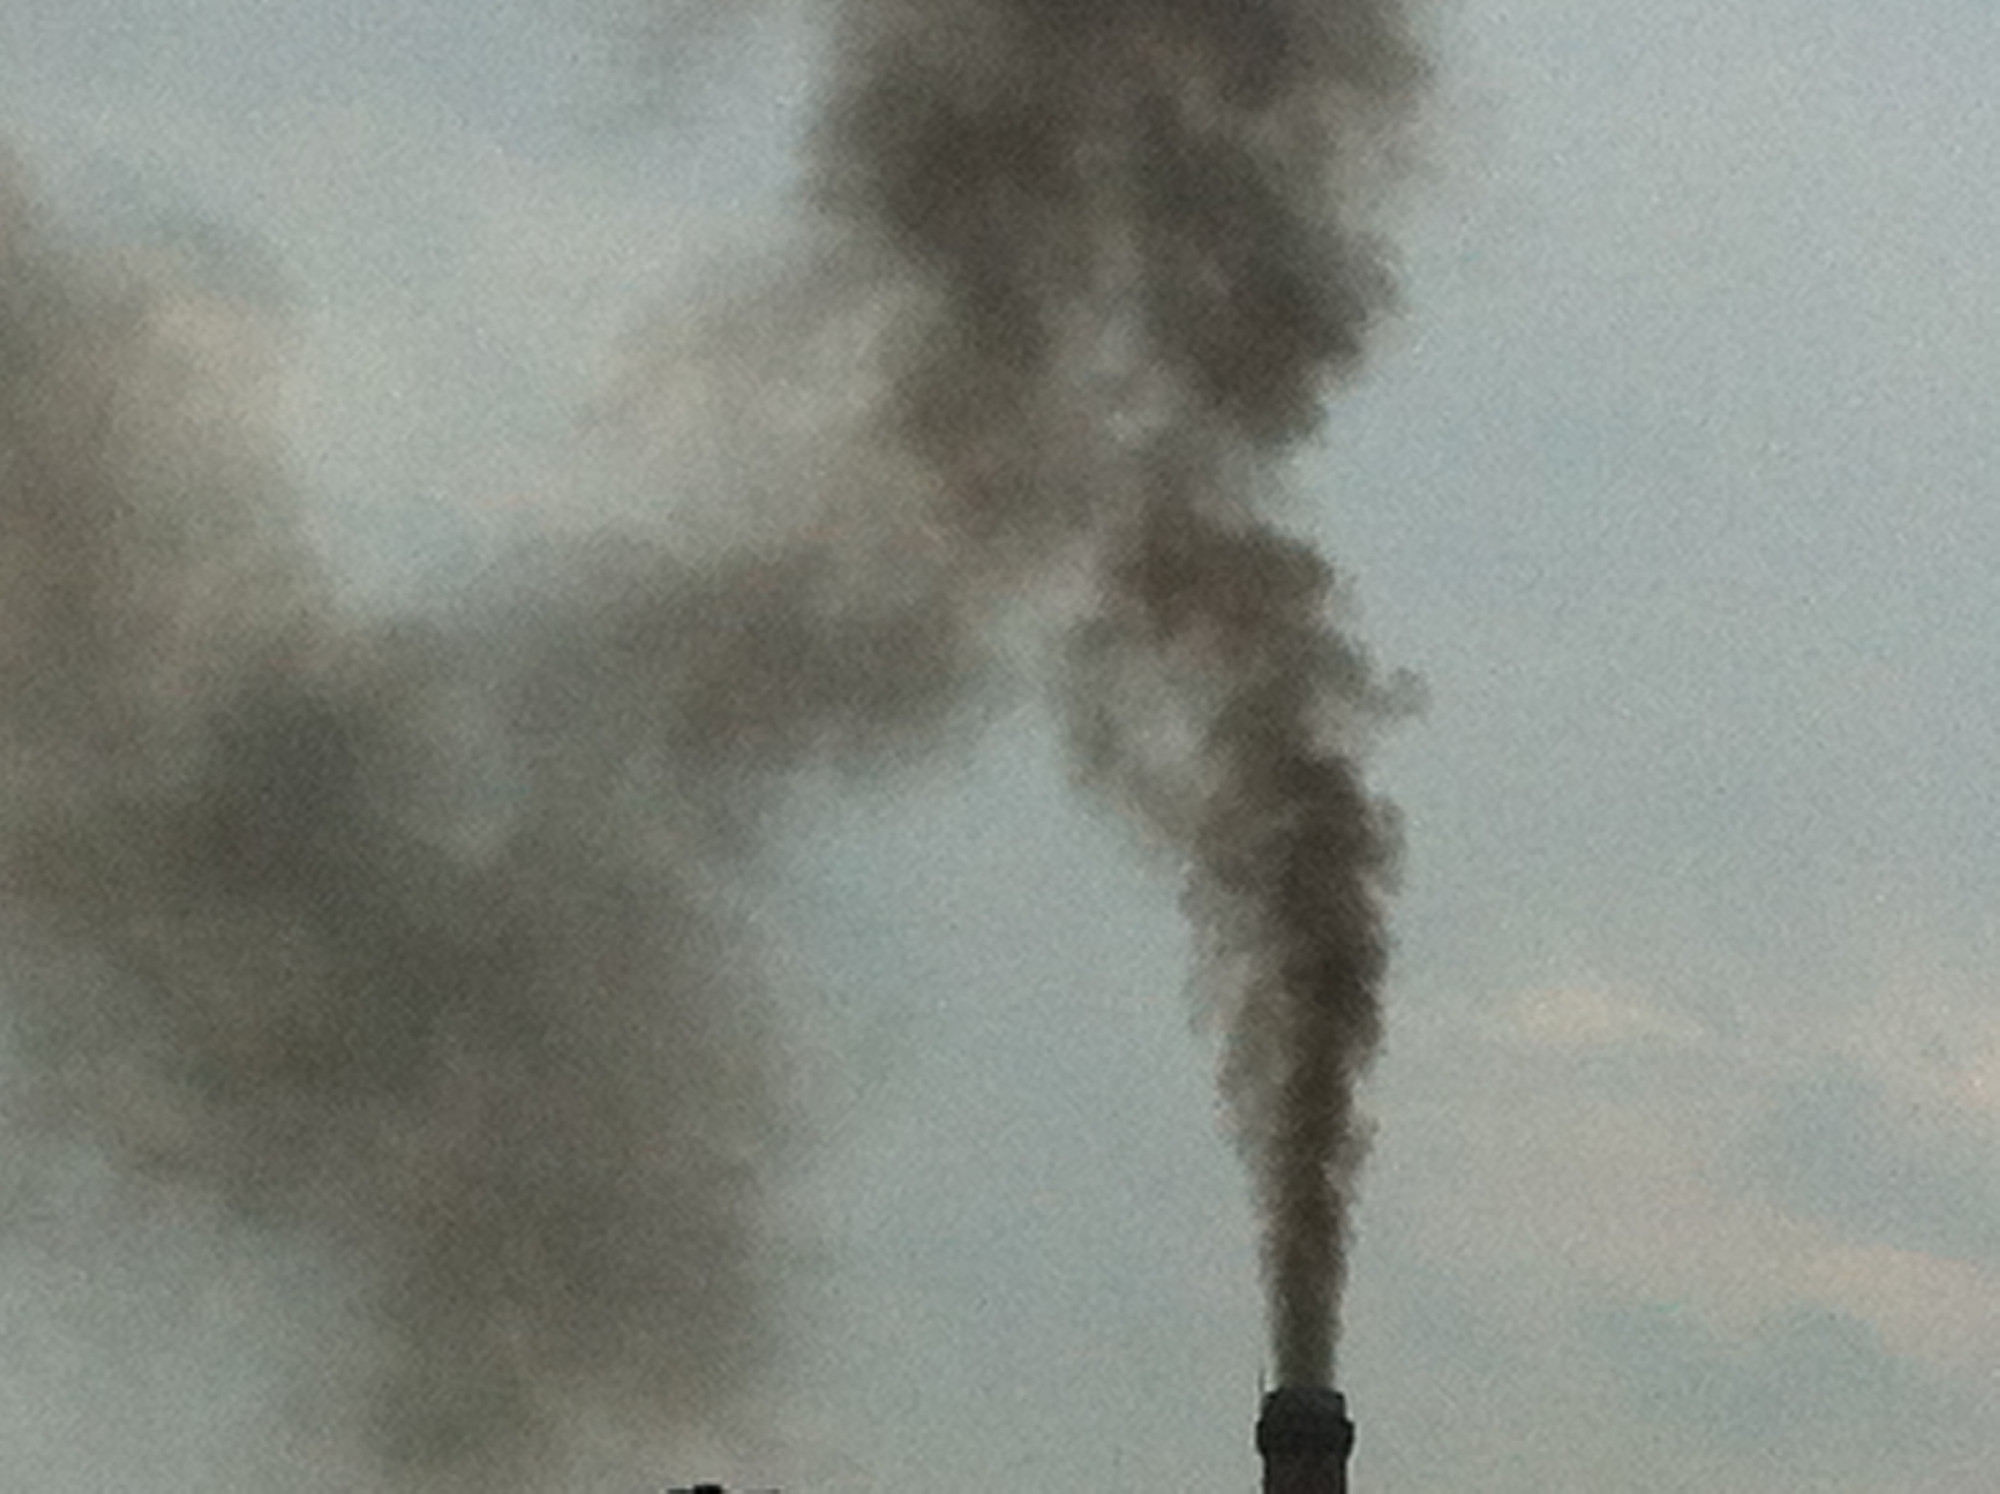dust: (993, 606, 1653, 1453)
